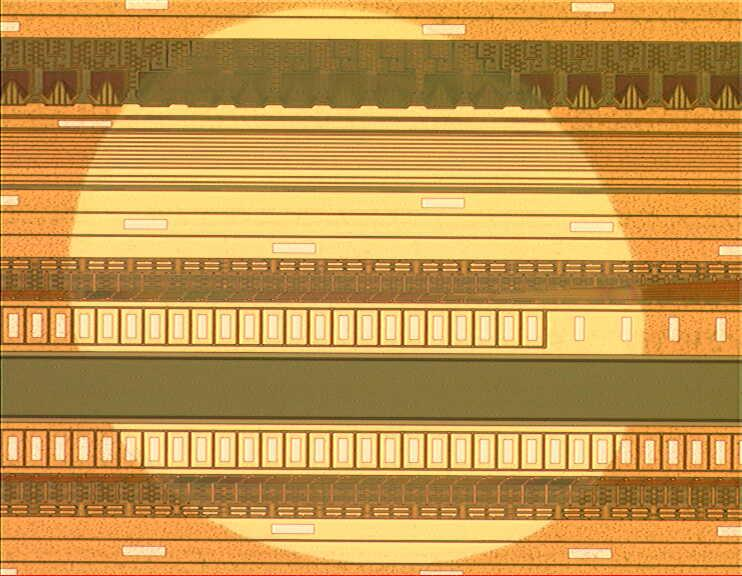COATING BAD: (52, 1, 664, 576)
